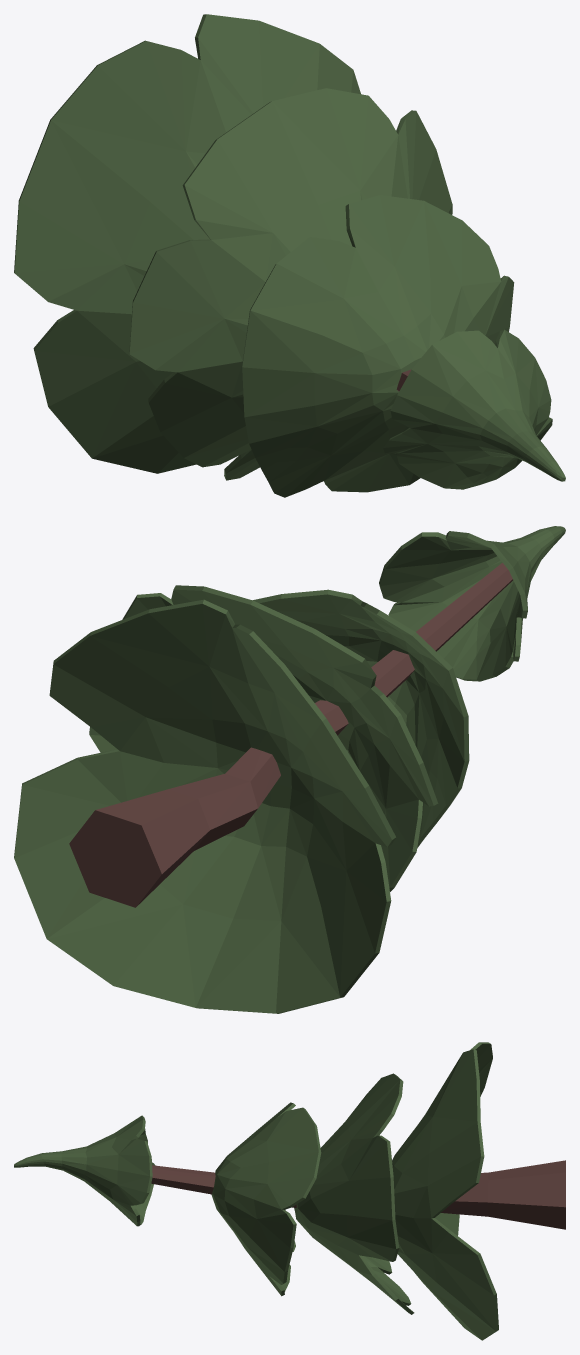
Rendered from tree-pine-2-38-ft.obj.
The picture shows the model from 3 angles, top to bottom: view 1: azimuth 30°, elevation 25°; view 2: azimuth 150°, elevation 25°; view 3: azimuth 270°, elevation 25°; orthographic projection. The views are drawn at different scales.
Parts seen in each view (by area): view 1: tree-pine-2-38-ft; view 2: tree-pine-2-38-ft; view 3: tree-pine-2-38-ft.
Part boxes in pixels (box(x1,y1,x2,y2)): tree-pine-2-38-ft: box(14, 14, 565, 497); tree-pine-2-38-ft: box(14, 526, 565, 1013); tree-pine-2-38-ft: box(14, 1042, 565, 1340).
Size of the model in its own units: 230 by 250 by 456.
